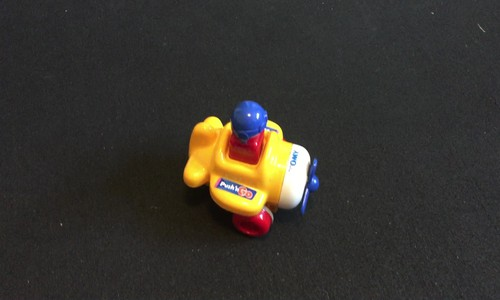toy: (176, 93, 324, 242)
